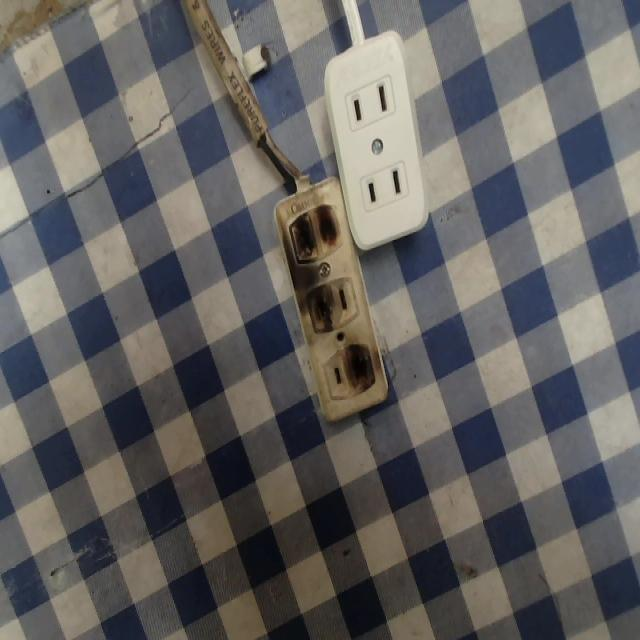-: (288, 201, 342, 267), (342, 339, 382, 396), (296, 288, 341, 333)
